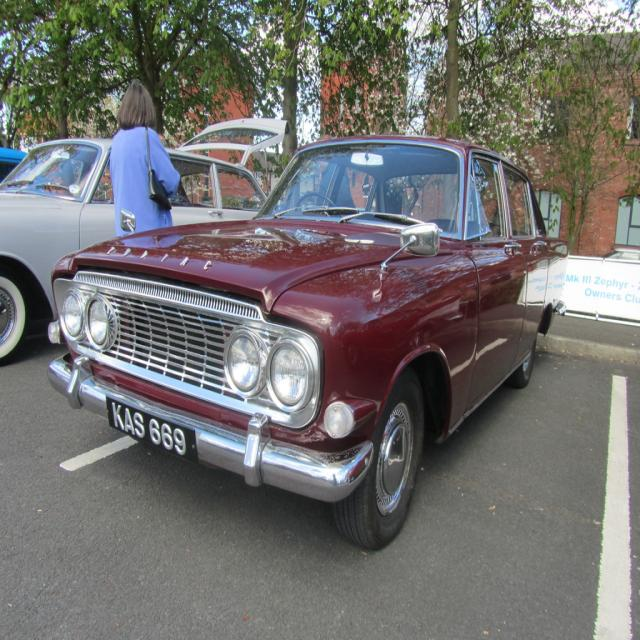Car: (48, 135, 570, 550), (0, 117, 292, 368), (0, 147, 51, 192)
